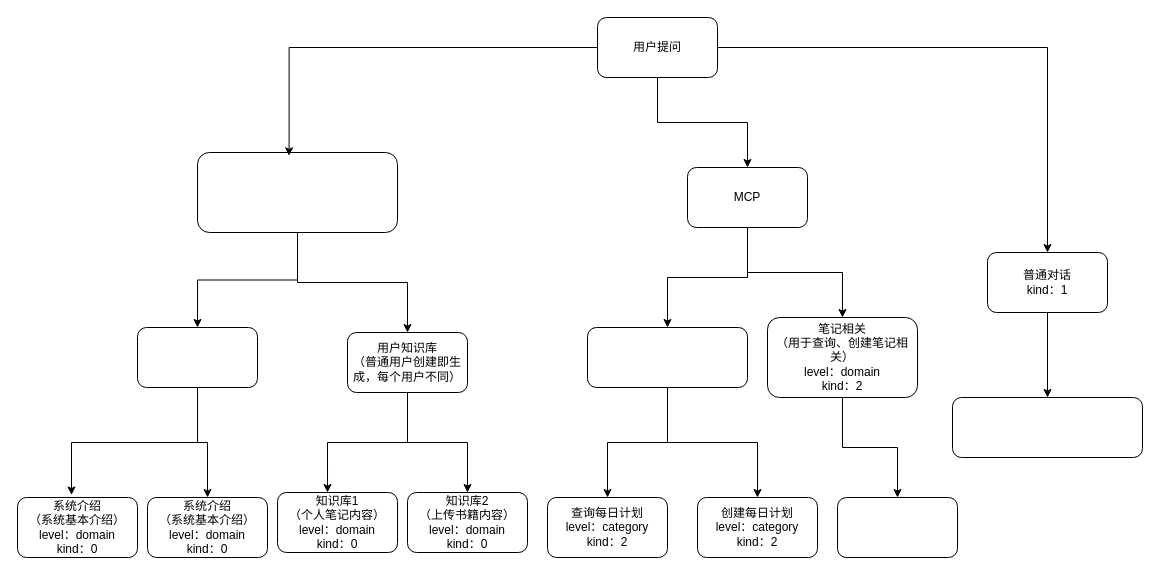
The diagram is 1160 pixels wide and 575 high, and some of its shapes have lost their labels. The centre of each missing label's shape, as x and y in pixels:
"查询笔记 level：category kind：2" goes at point 897,527.
"知识库" goes at point 297,192.
"系统知识库 （管理员配置，所有用户统一拥有）" goes at point 197,357.
"计划相关 （用于查询、创建计划相关） level：domain kind：2" goes at point 667,357.
"配置系统提示词，进行普通对话 （比如：你是智能机器人，你的名字叫小智）" goes at point 1047,427.
